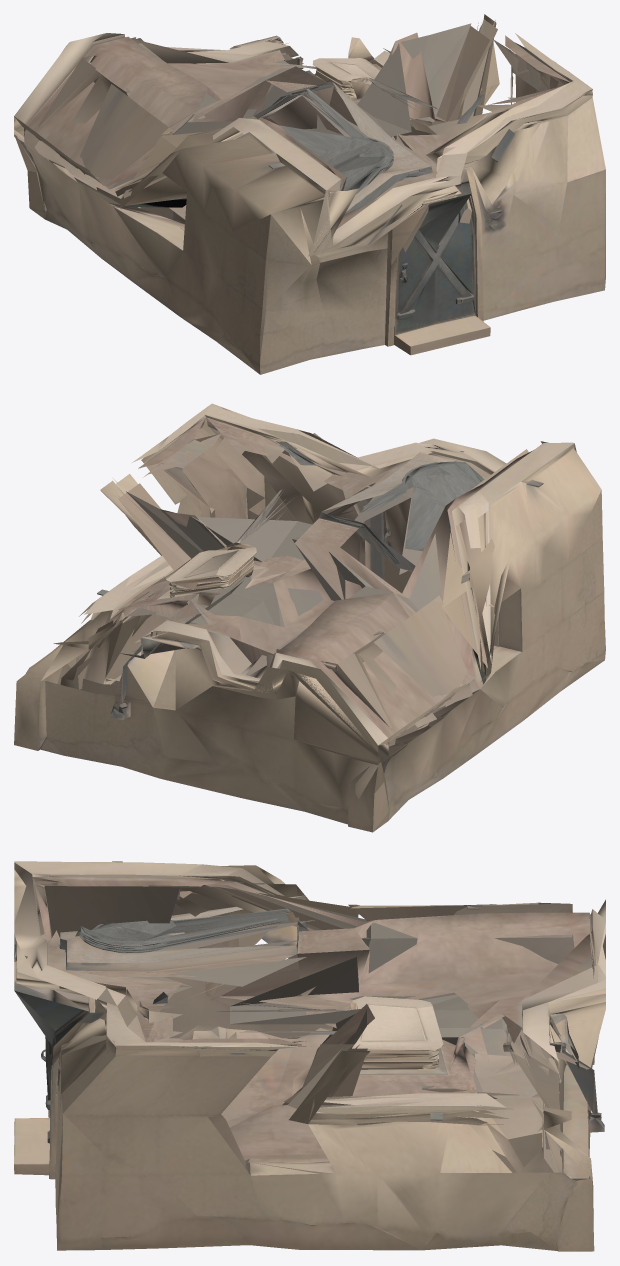
File: concrete_wreck.glb
3 views of the same model, one above another, from view 1: azimuth 30°, elevation 25°; view 2: azimuth 150°, elevation 25°; view 3: azimuth 270°, elevation 25° (orthographic). The views are drawn at different scales.
Visible parts, largest first — view 1: wall.001, roof.001; view 2: wall.001, roof.001; view 3: wall.001, roof.001.
Boxes of the visible parts, x1,y1,x2,y2 form: wall.001: (14,14,605,374); roof.001: (14,20,592,246); wall.001: (14,405,605,832); roof.001: (84,403,574,745); wall.001: (14,861,605,1251); roof.001: (14,861,605,1108).
Size of the model in its own units: 7.23 by 3.49 by 8.5.
Materials: 1 (1 with a texture image).
